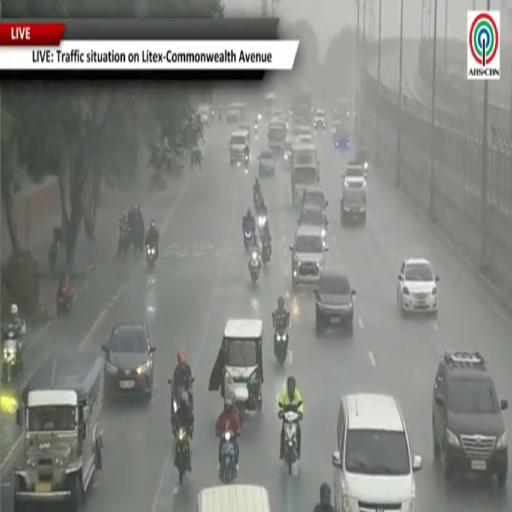car: (333, 394, 422, 511), (432, 352, 507, 487), (102, 324, 155, 401), (316, 271, 355, 333), (290, 226, 328, 289), (397, 258, 438, 315), (298, 205, 328, 244), (302, 186, 328, 220), (230, 131, 249, 164), (354, 149, 369, 178), (259, 150, 275, 175), (334, 124, 350, 149), (198, 104, 211, 125), (284, 137, 293, 167), (314, 109, 326, 130), (238, 125, 250, 143), (227, 108, 240, 122), (298, 134, 312, 142)
jeepney: (14, 354, 104, 511), (198, 485, 270, 511), (268, 120, 286, 152)
motorcycle: (282, 403, 301, 475), (2, 324, 25, 382), (168, 377, 194, 427), (174, 427, 191, 485), (220, 431, 236, 484), (48, 227, 63, 271), (57, 281, 75, 315), (274, 328, 288, 366), (117, 228, 131, 258), (249, 248, 261, 283), (131, 226, 145, 254), (49, 239, 59, 271), (146, 245, 157, 269), (243, 229, 254, 250), (262, 240, 270, 265), (258, 208, 266, 230), (211, 109, 215, 121), (245, 153, 249, 165), (254, 123, 258, 133)
truck: (291, 143, 319, 204), (340, 163, 366, 223), (291, 90, 313, 125)
